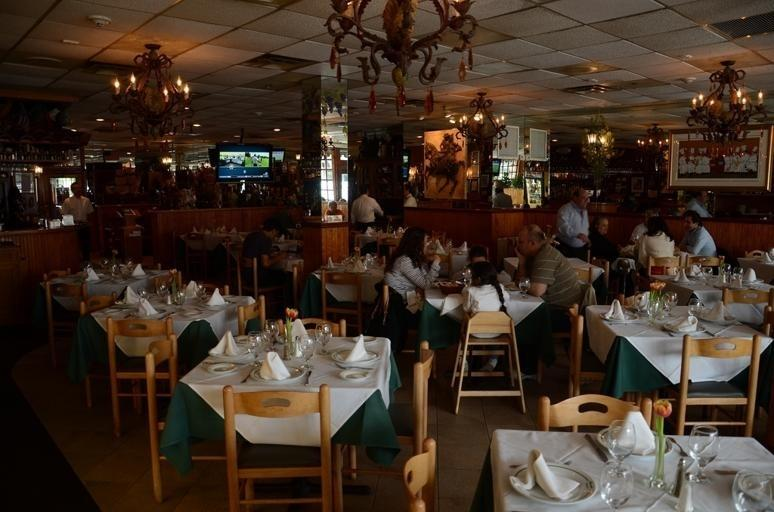clean: (483, 420, 774, 512), (203, 310, 400, 398), (568, 288, 774, 364), (104, 281, 267, 331), (46, 254, 171, 289)
